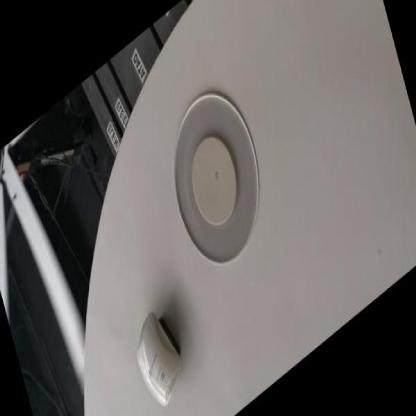light_off: (139, 27, 289, 313)
